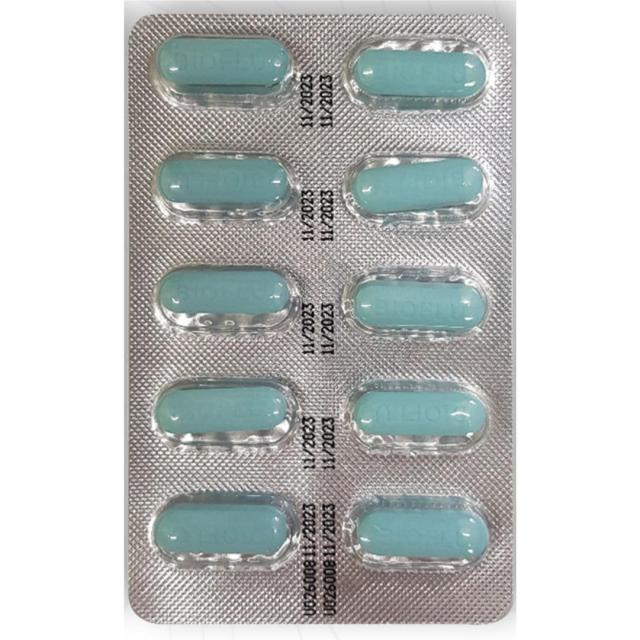blister: (123, 5, 519, 626)
